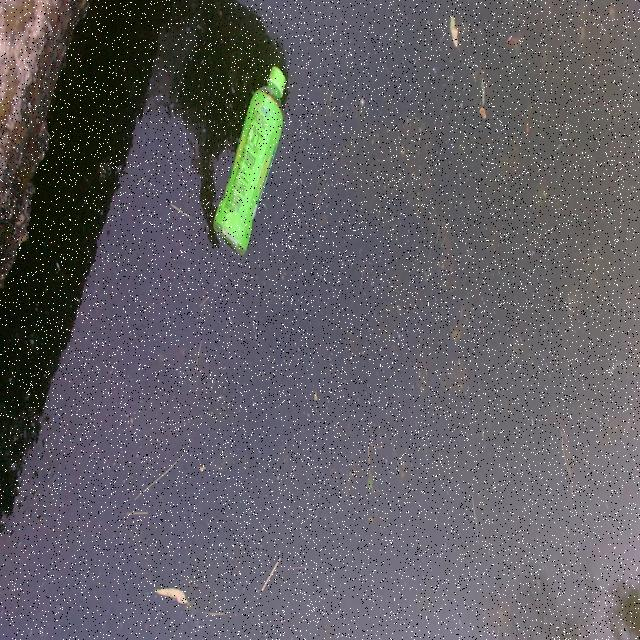Bottle: (208, 58, 292, 258)
